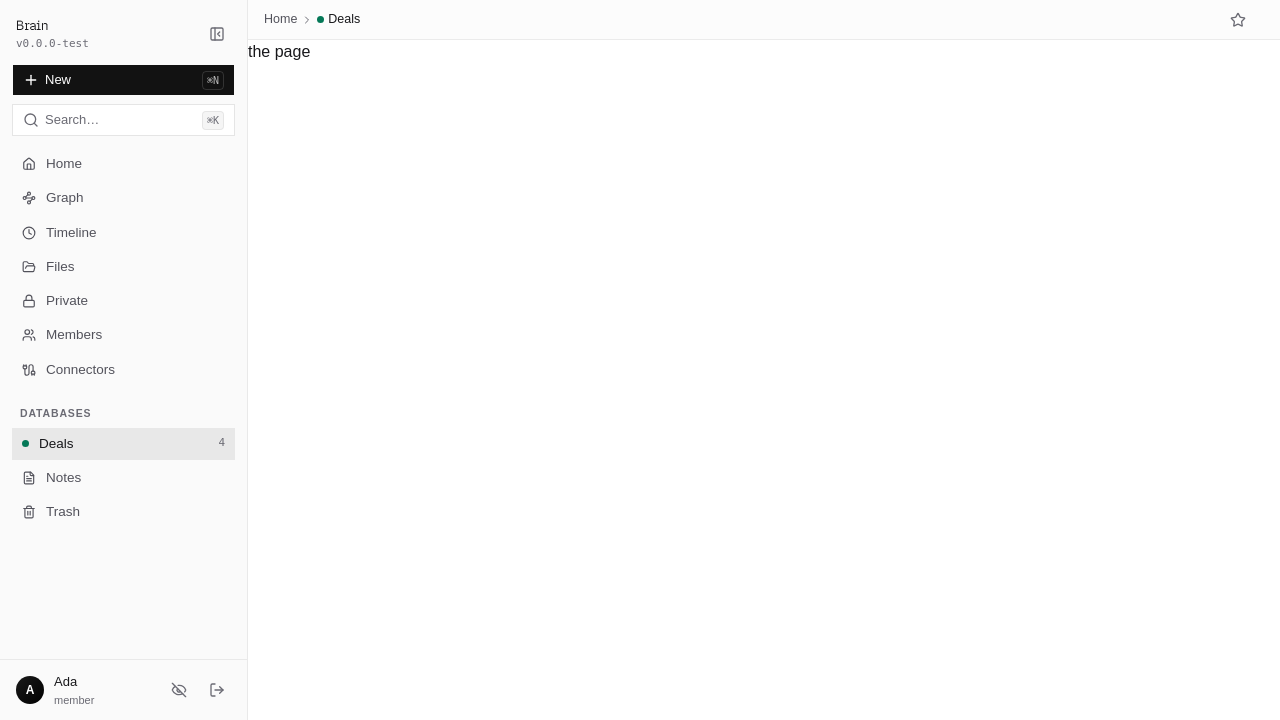
Scenario: <Shell /> chrome › stars the database on screen from the header
Click the button named "Favorite Deals" at (1238, 20), box x1=1224 y1=6 x2=1252 y2=34
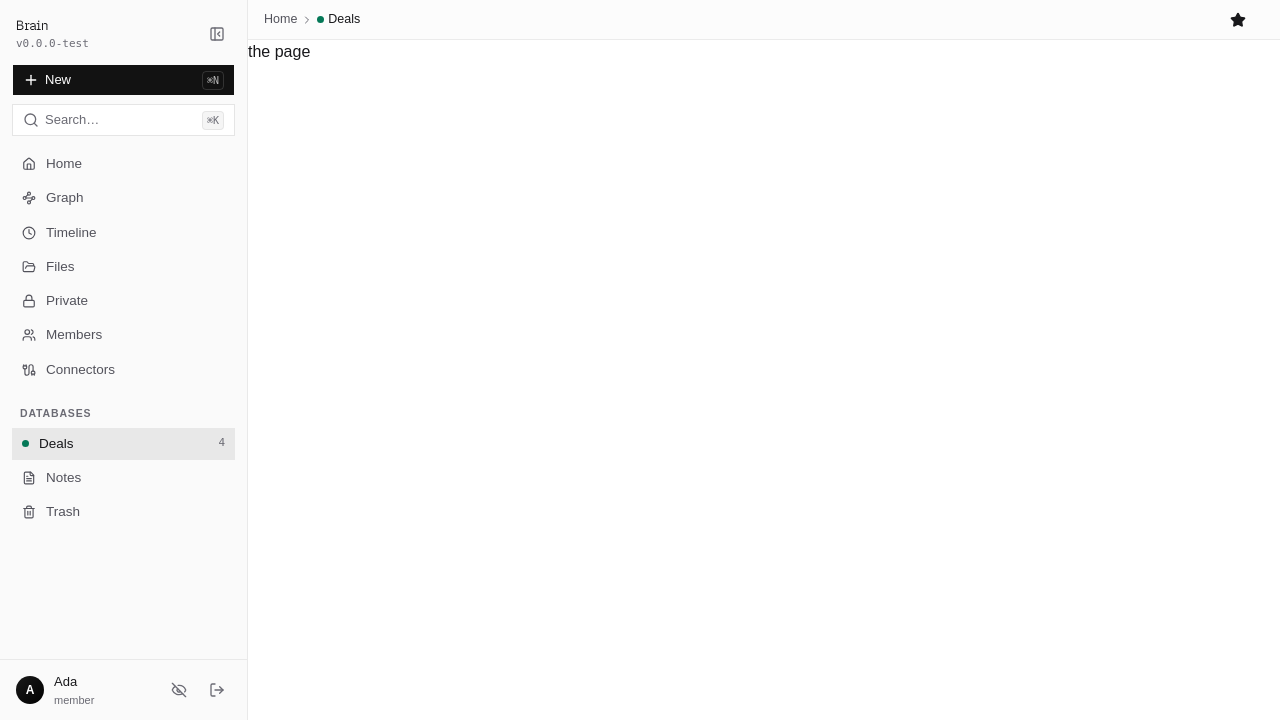
Result: the button named "Unfavorite Deals" is shown at x1=1224 y1=6 x2=1252 y2=34
